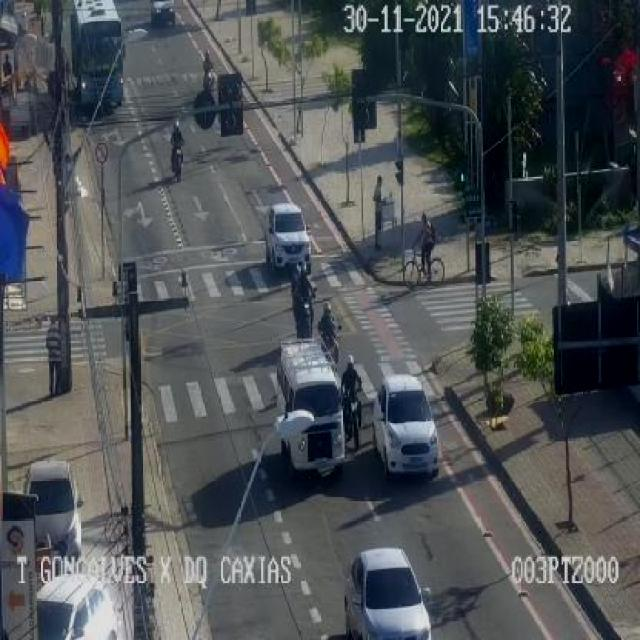Bus: (274, 332, 350, 473), (68, 0, 138, 118)
Car: (346, 538, 439, 640), (380, 363, 452, 482), (11, 571, 116, 639), (15, 461, 94, 548), (253, 194, 312, 274)
Cycle: (313, 295, 355, 371), (287, 256, 328, 327), (157, 114, 196, 186), (343, 361, 376, 439), (395, 239, 452, 283), (193, 55, 223, 111)
